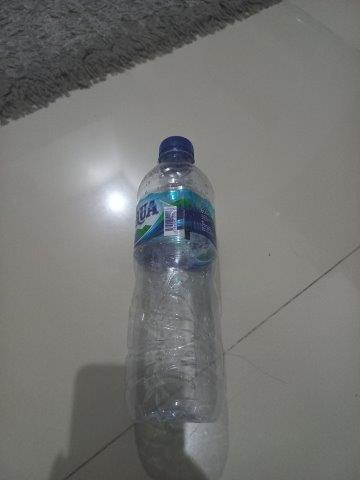botolplastik: (125, 136, 223, 421)
